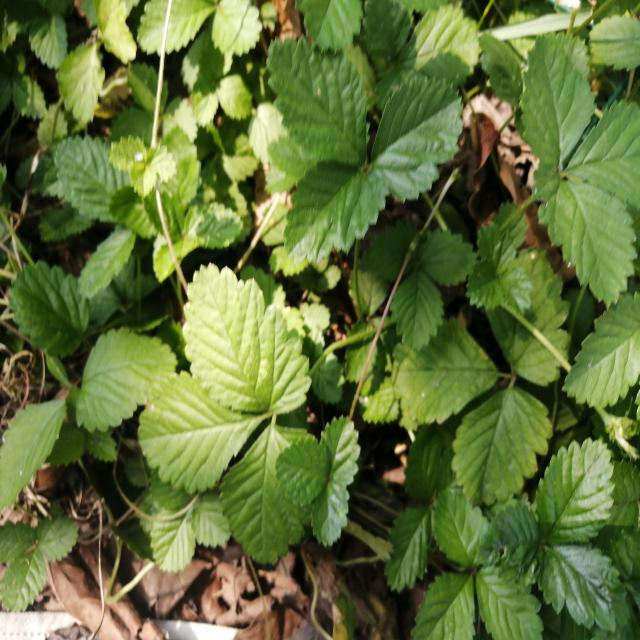Mock_strawberry: (148, 286, 372, 538), (254, 45, 476, 289)
